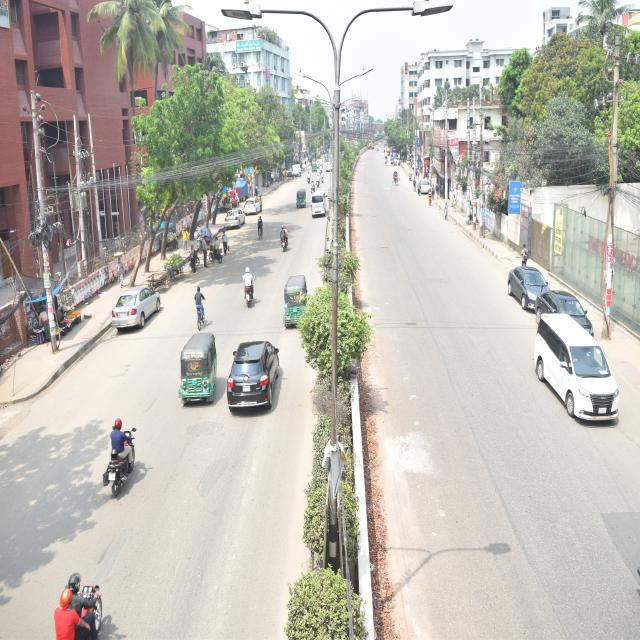car: (532, 313, 622, 436), (223, 337, 283, 414), (538, 289, 597, 332), (110, 284, 162, 332), (503, 256, 550, 305), (222, 203, 245, 234), (416, 176, 434, 196), (245, 197, 262, 218)
microbus: (310, 192, 328, 219)
motorbike: (94, 428, 144, 501), (76, 578, 107, 640), (242, 272, 257, 308)
